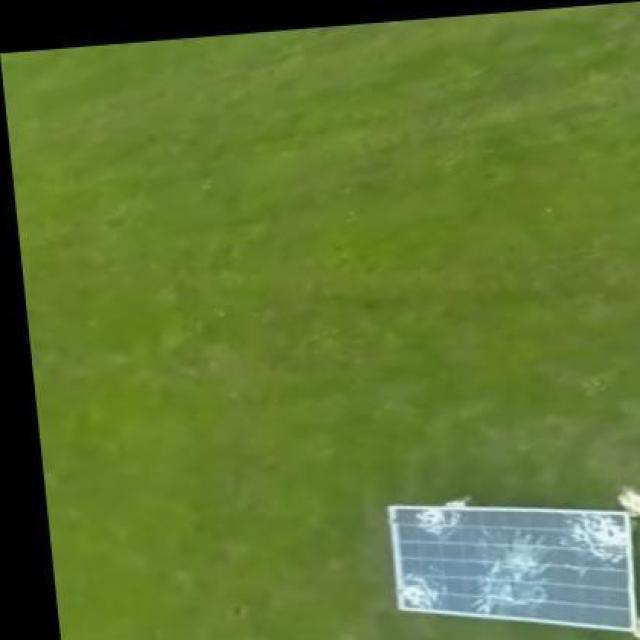cracked: (387, 506, 634, 631)
